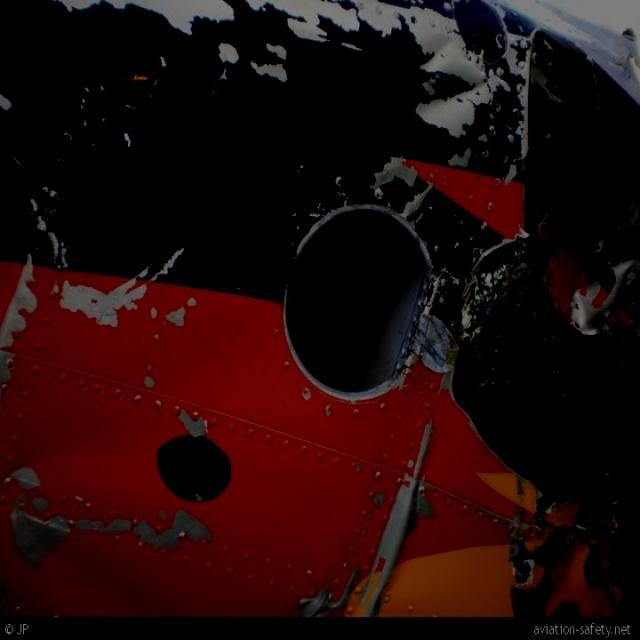dent: (24, 411, 135, 479)
